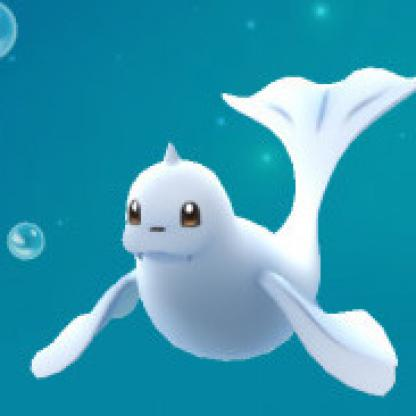Dewgong: (19, 73, 416, 388)
